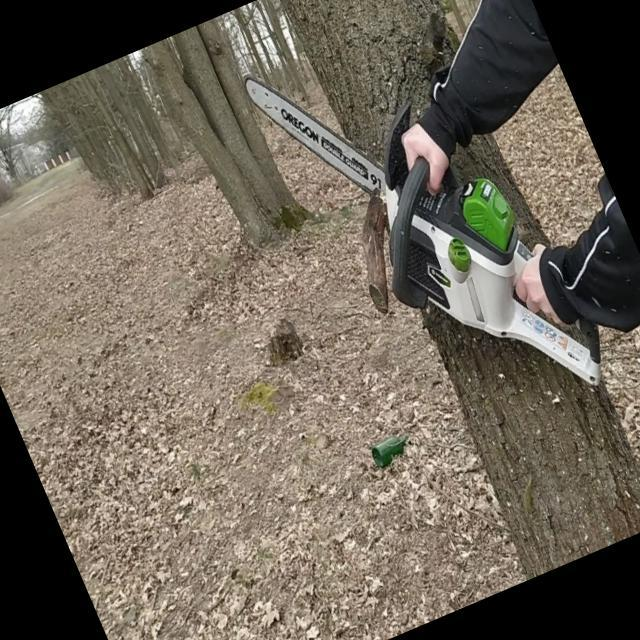Chainsaw: (234, 0, 623, 472)
